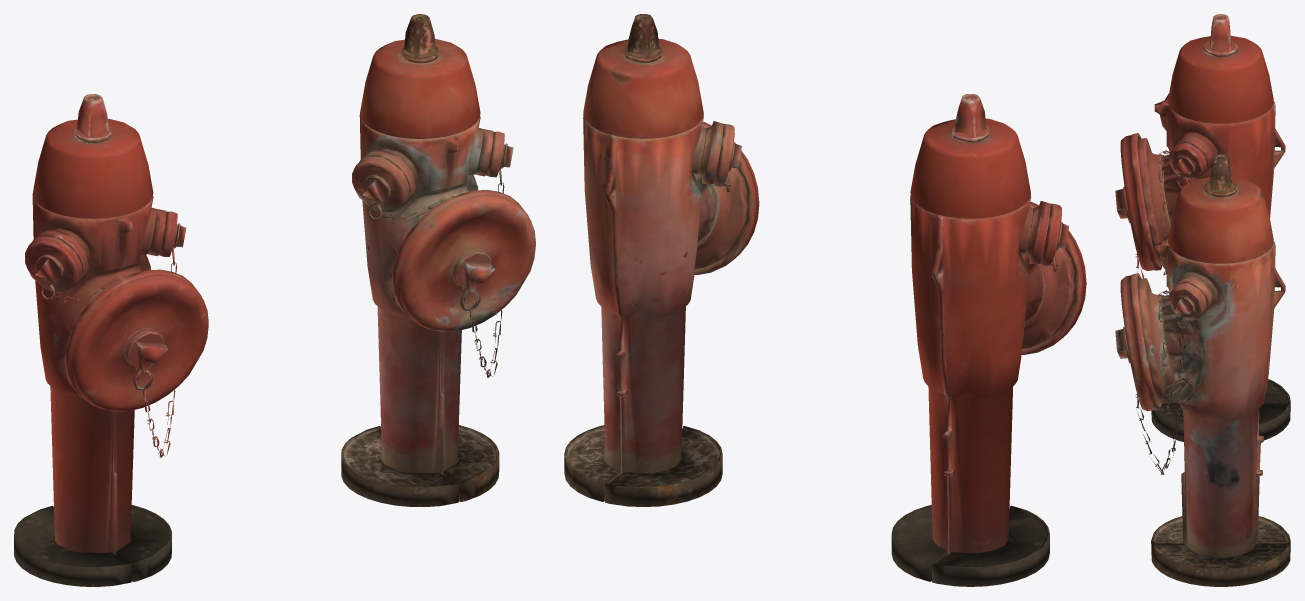
Rendered from fire_hydrant.glb.
3 renders of one model, left to right at view 1: azimuth 30°, elevation 25°; view 2: azimuth 150°, elevation 25°; view 3: azimuth 270°, elevation 25°, orthographic. The views are drawn at different scales.
Visible parts, largest first — view 1: fire_hydrant_aged, fire_hydrant; view 2: fire_hydrant, fire_hydrant_aged; view 3: fire_hydrant_aged, fire_hydrant.
Part boxes in pixels (x1=…): fire_hydrant_aged: x1=341, y1=14, x2=535, y2=506; fire_hydrant: x1=14, y1=94, x2=208, y2=586; fire_hydrant: x1=891, y1=94, x2=1086, y2=586; fire_hydrant_aged: x1=564, y1=14, x2=759, y2=506; fire_hydrant_aged: x1=1115, y1=154, x2=1290, y2=586; fire_hydrant: x1=1115, y1=14, x2=1290, y2=441.
Size of the model in its own units: 0.8745 by 0.7994 by 0.3173.
Materials: 2 (2 with a texture image).
